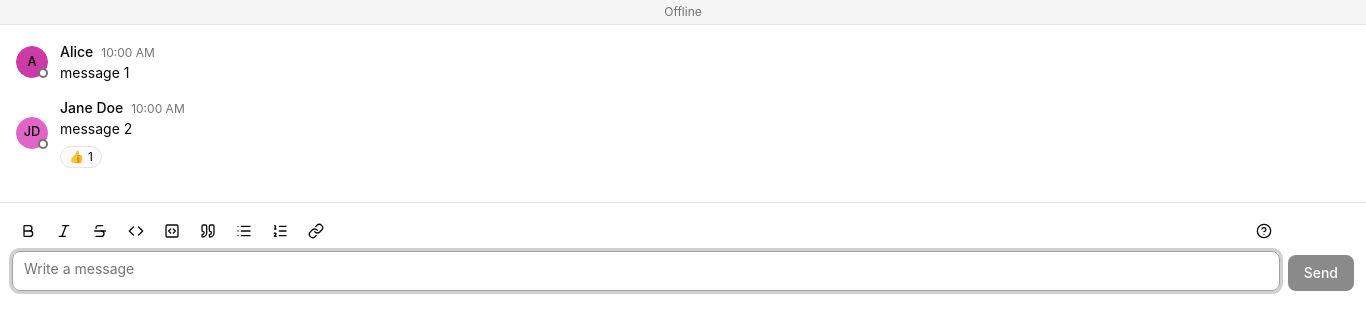
Test: treats 409 reaction_already_exists and 404 reaction_not_found as success
The image size is (1366, 311).
What coordinates should you click on to do the following:
click the button "👍 1"
I would click on:
 (81, 157)
Its box is [60,146,102,168].
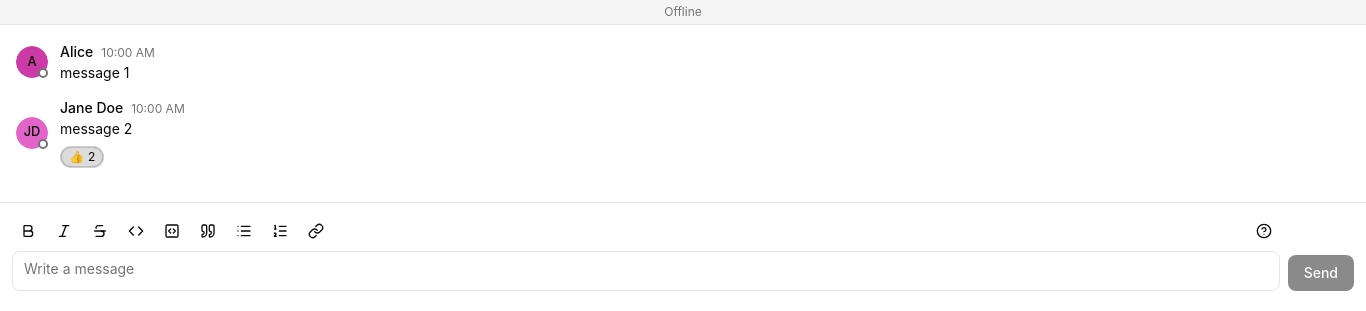
Check: the button "👍 2" is shown
What coordinates should you click on to do the following:
click the button "👍 2"
I would click on:
 (82, 157)
Its box is [60,146,104,168].
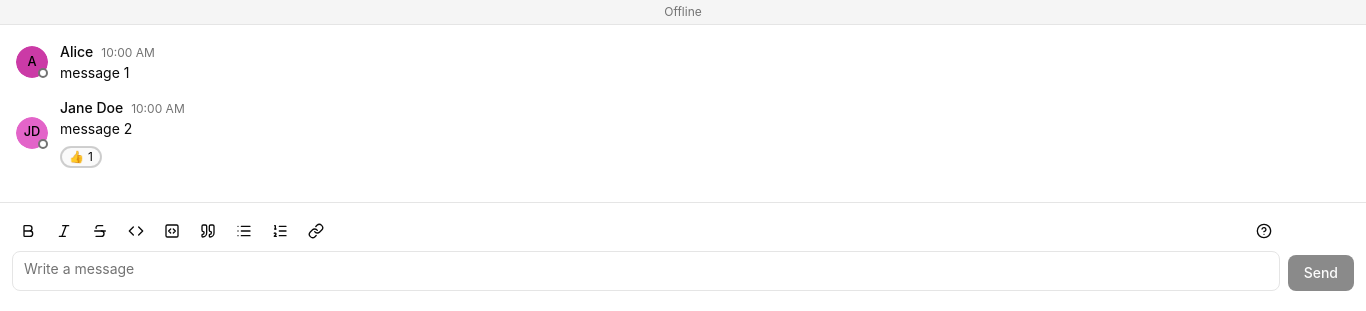
Check: the button "👍 1" is shown, box [60,146,102,168]
